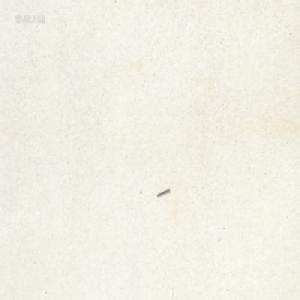Bolt: (156, 188, 169, 197)
